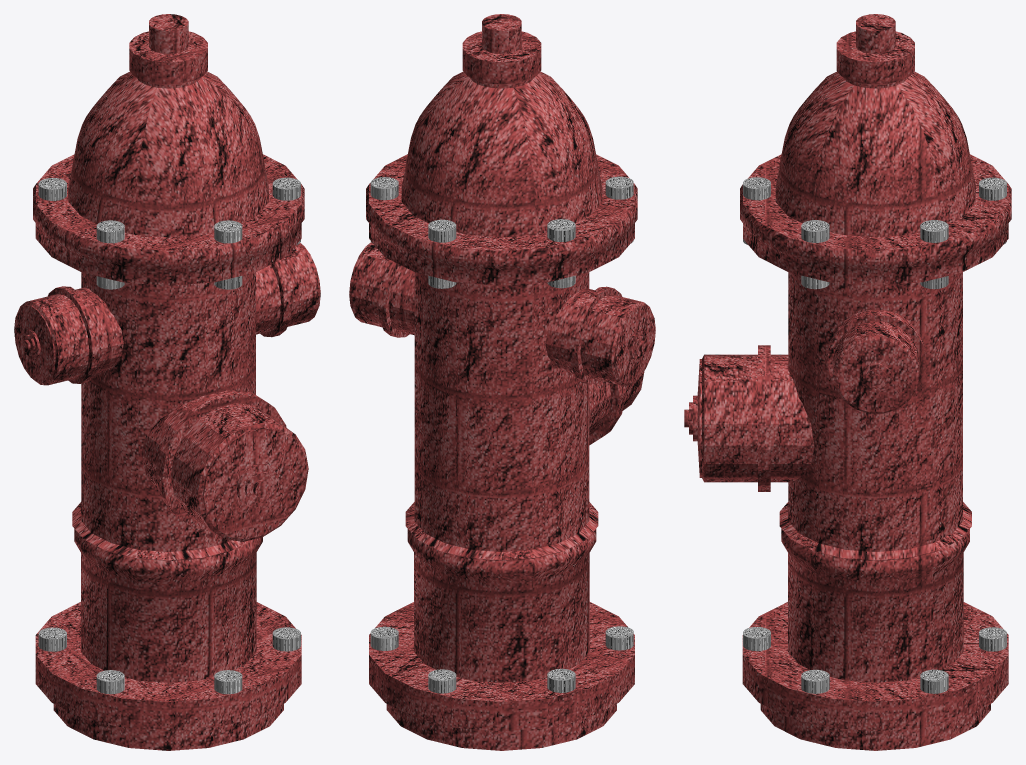
The model's file is firehydrant.FBX.
3 renders of one model, left to right at view 1: azimuth 30°, elevation 25°; view 2: azimuth 150°, elevation 25°; view 3: azimuth 270°, elevation 25°, orthographic.
Visible parts, largest first — view 1: FireHydrant, Cylinder002, Cylinder003, ScrewsOnFireHydrant, Cylinder004; view 2: FireHydrant, Cylinder003, ScrewsOnFireHydrant, Cylinder004, Cylinder002; view 3: FireHydrant, Cylinder002, Cylinder004, ScrewsOnFireHydrant.
Boxes of the visible parts, bbox=[...] form: FireHydrant: bbox=[33, 14, 304, 750]; Cylinder002: bbox=[141, 389, 308, 541]; Cylinder003: bbox=[14, 286, 123, 385]; ScrewsOnFireHydrant: bbox=[38, 177, 300, 694]; Cylinder004: bbox=[256, 243, 320, 337]; FireHydrant: bbox=[366, 14, 637, 750]; Cylinder003: bbox=[545, 286, 655, 385]; ScrewsOnFireHydrant: bbox=[370, 176, 633, 693]; Cylinder004: bbox=[349, 242, 414, 337]; Cylinder002: bbox=[589, 371, 644, 445]; FireHydrant: bbox=[740, 14, 1011, 750]; Cylinder002: bbox=[684, 345, 814, 491]; Cylinder004: bbox=[827, 310, 925, 413]; ScrewsOnFireHydrant: bbox=[743, 177, 1006, 693].
Bounding box in the file's own units: 35.48 × 80.99 × 35.37.
Materials: 2 (2 with a texture image).
